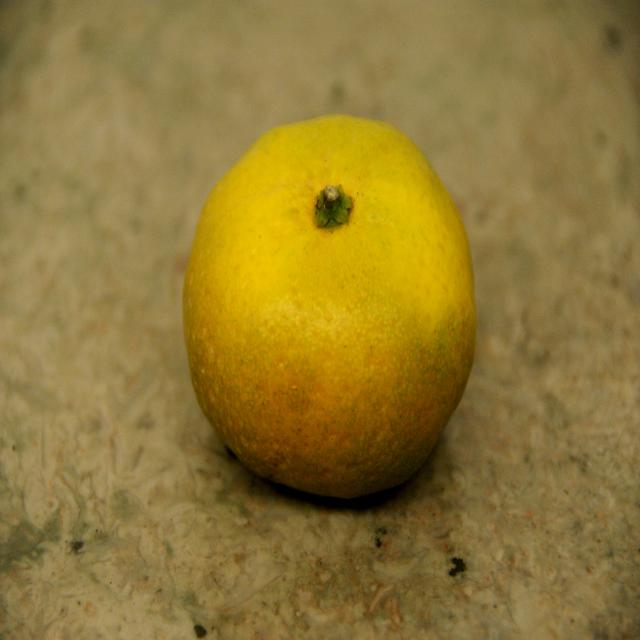Orange: (186, 114, 477, 491)
